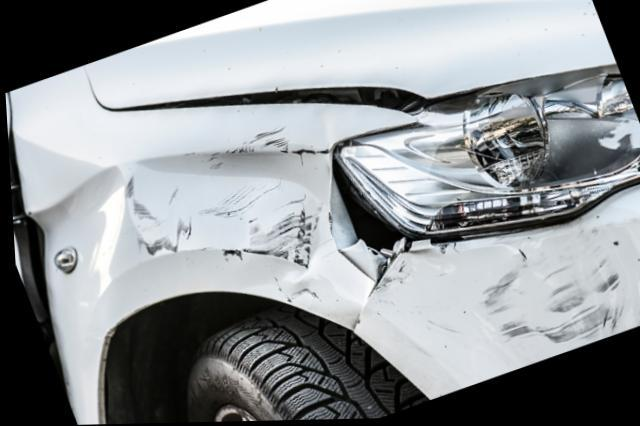dent: (120, 148, 340, 307), (477, 228, 630, 365)
lamp broken: (334, 71, 640, 235)
